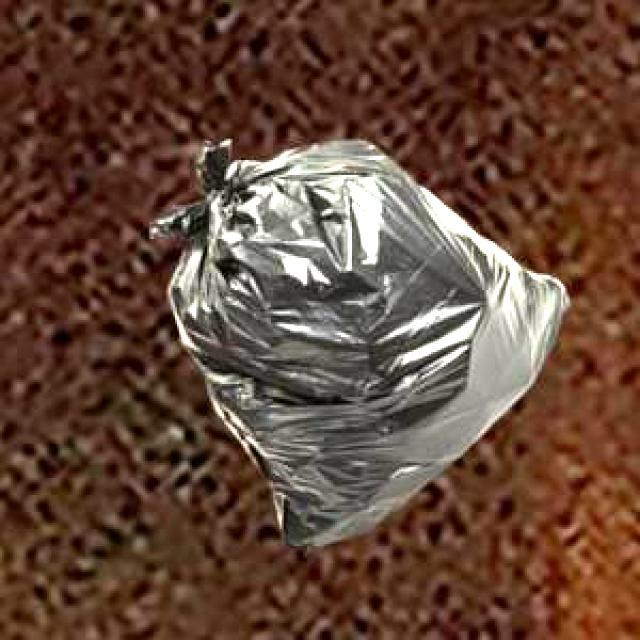Garbage_Bag: (148, 138, 564, 552)
